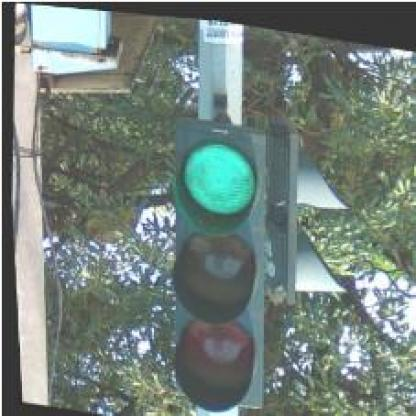green: (151, 110, 278, 407)
